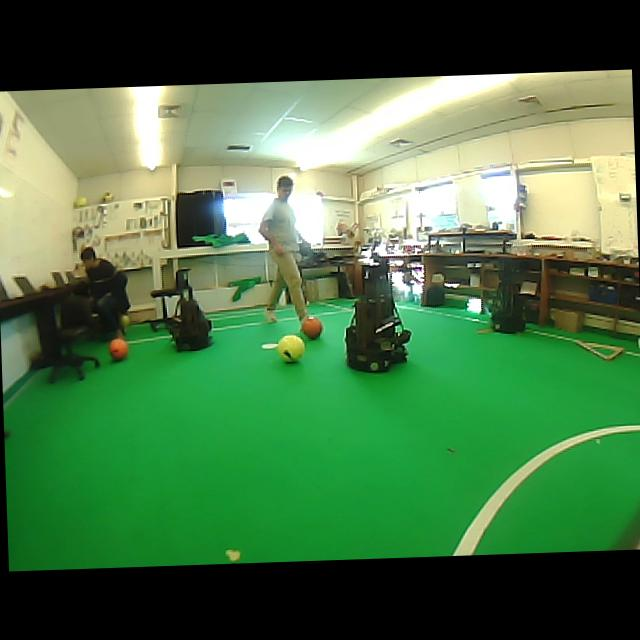ball: (277, 334, 304, 362), (301, 315, 322, 338), (109, 337, 128, 360), (120, 314, 129, 335), (73, 196, 88, 207), (101, 191, 113, 202)
robot: (345, 263, 411, 371), (168, 269, 211, 350), (491, 257, 525, 332)
